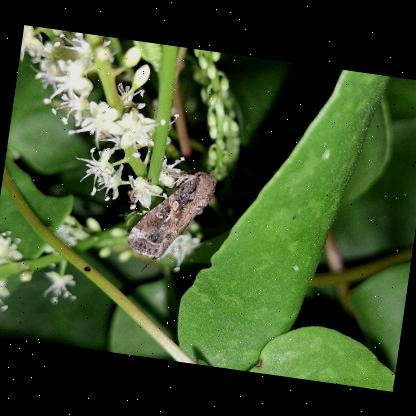Fall Armyworm Moth: (122, 157, 219, 269)
